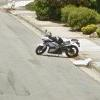Motorcycle: (32, 27, 87, 70)
